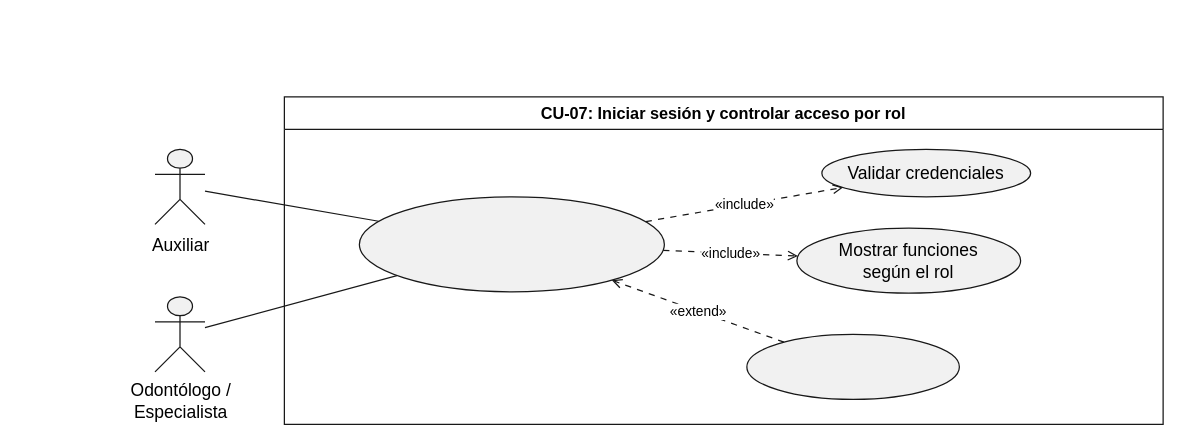
Image size: 1185x446. Some labels were removed from this diagram. Each missing label, with the centre of its shape:
"CU-07 Iniciar sesión y controlar acceso por rol" goes at pixel 511 244.
"Restringir acceso no autorizado" goes at pixel 852 366.
